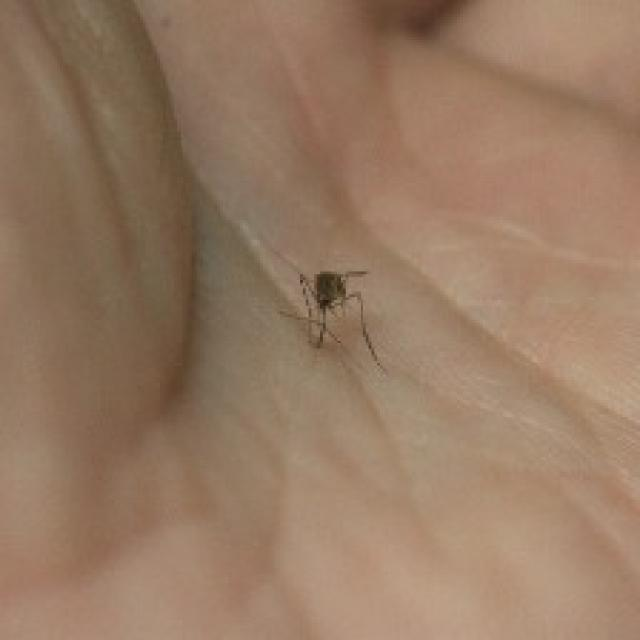culex: (277, 266, 386, 371)
